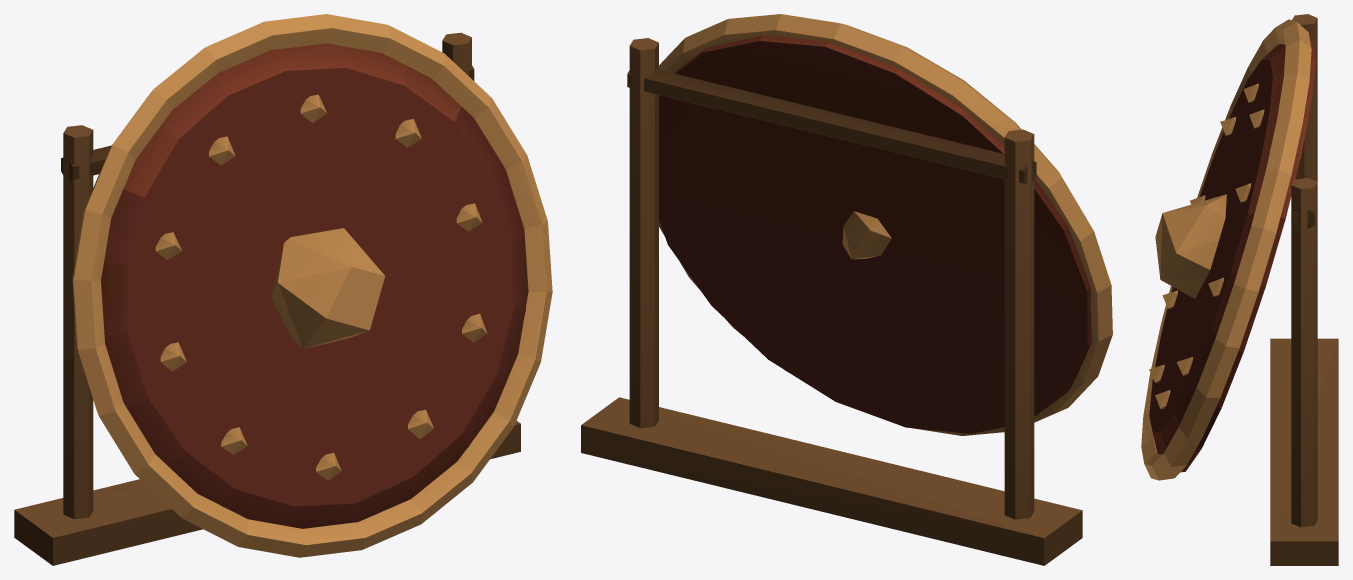
The picture shows the model from 3 angles, left to right: view 1: azimuth 30°, elevation 25°; view 2: azimuth 150°, elevation 25°; view 3: azimuth 270°, elevation 25°; orthographic projection. The views are drawn at different scales.
Visible parts, largest first — view 1: base; view 2: base; view 3: base.
Part boxes in pixels (x1,y1,x2,y2): base: [14, 14, 552, 565]; base: [581, 14, 1112, 565]; base: [1141, 14, 1338, 565].
Size of the model in its own units: 0.4234 by 0.4086 by 0.173.
